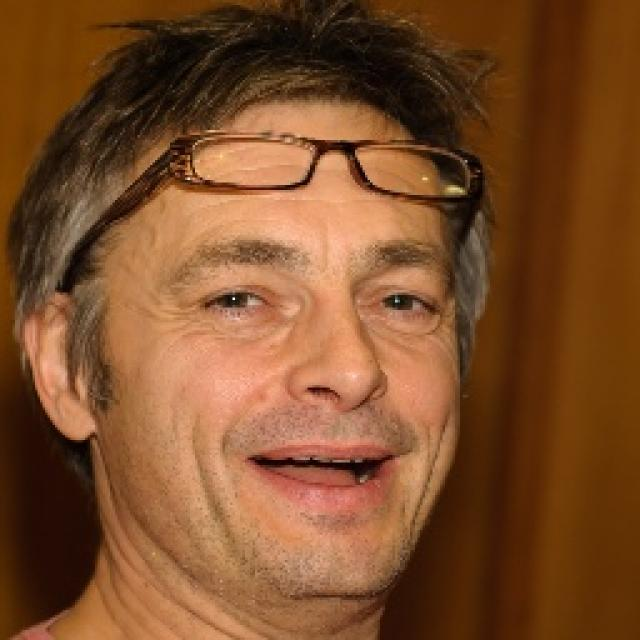earlobe: (20, 291, 97, 443)
